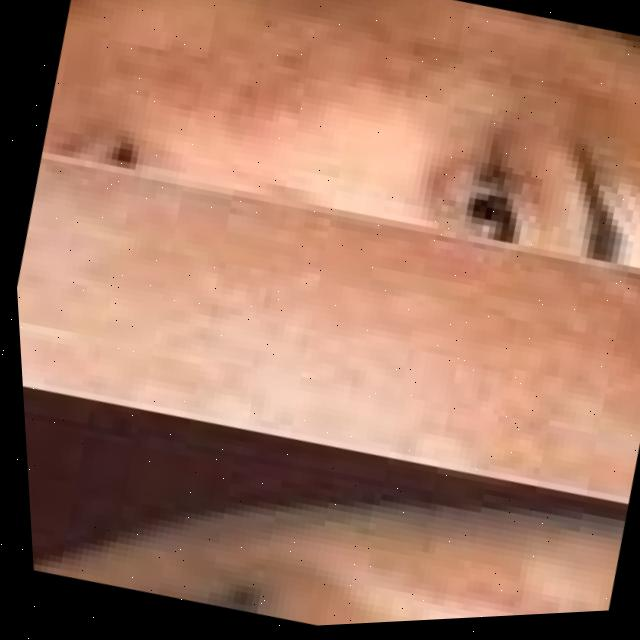Melasma: (10, 130, 640, 523), (85, 0, 640, 262)
